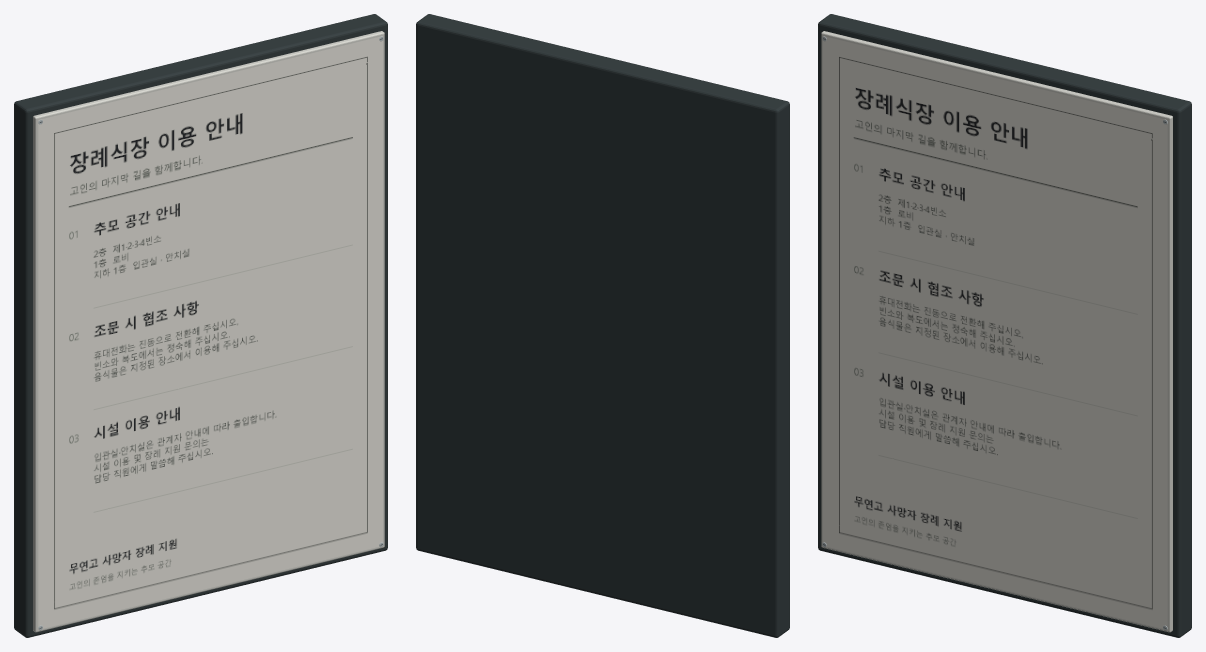
Rendered from Funeral_Information_Board.fbx.
The picture shows the model from 3 angles, left to right: view 1: azimuth 30°, elevation 25°; view 2: azimuth 150°, elevation 25°; view 3: azimuth 330°, elevation 25°; orthographic projection.
Visible parts, largest first — view 1: Funeral_Information_Board; view 2: Funeral_Information_Board; view 3: Funeral_Information_Board.
Boxes of the visible parts, box(x1,y1,x2,y2) form: Funeral_Information_Board: box(14, 14, 387, 637); Funeral_Information_Board: box(416, 14, 789, 637); Funeral_Information_Board: box(818, 14, 1191, 637).
Size of the model in its own units: 0.56 by 0.78 by 0.0453.
Materials: 4 (1 with a texture image).
